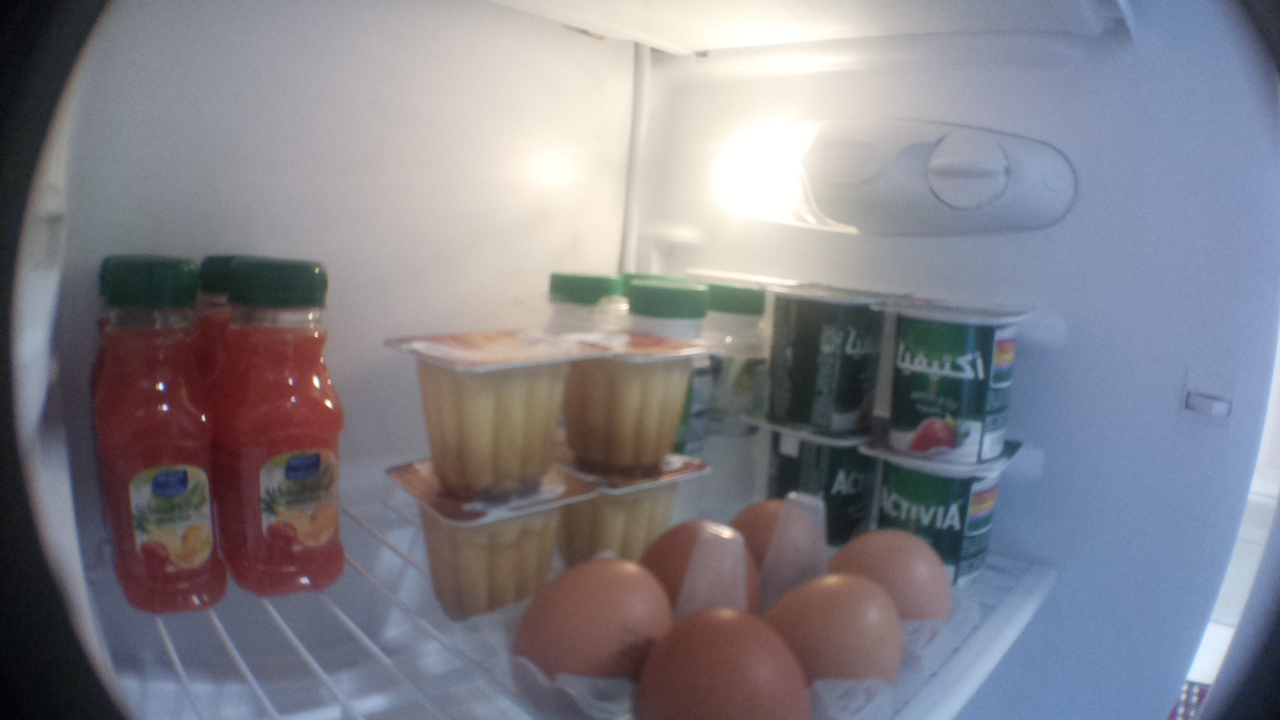caramel: (380, 327, 614, 502), (367, 463, 600, 625), (571, 330, 725, 473), (562, 448, 711, 560)
egg: (512, 545, 664, 692), (639, 603, 809, 720), (761, 565, 909, 686), (633, 512, 767, 614), (834, 521, 959, 628), (719, 496, 823, 582)
juice: (77, 256, 232, 625), (228, 260, 352, 599), (203, 253, 247, 368)
laban: (542, 265, 622, 333), (623, 275, 711, 334), (712, 281, 773, 346), (616, 267, 669, 306)
yoghurt: (880, 296, 1039, 467), (763, 284, 892, 439), (861, 446, 1030, 531), (753, 412, 875, 512)
